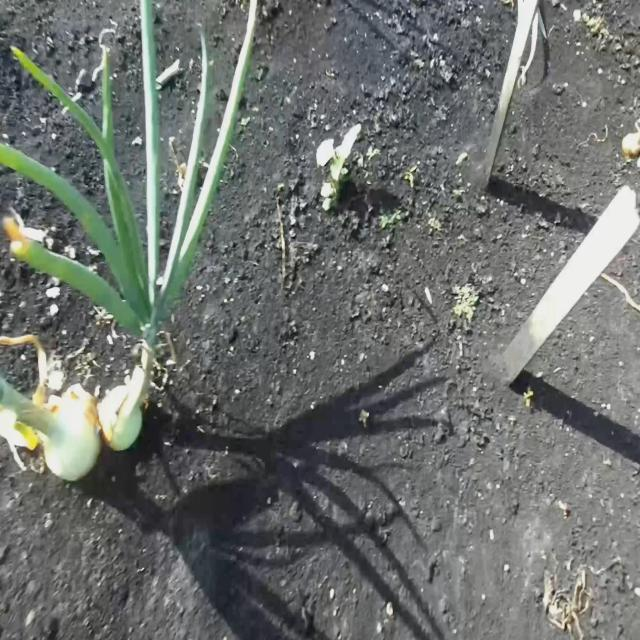onion: (42, 382, 102, 482), (103, 381, 144, 452)
